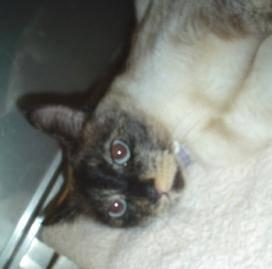cat: (32, 1, 270, 244)
